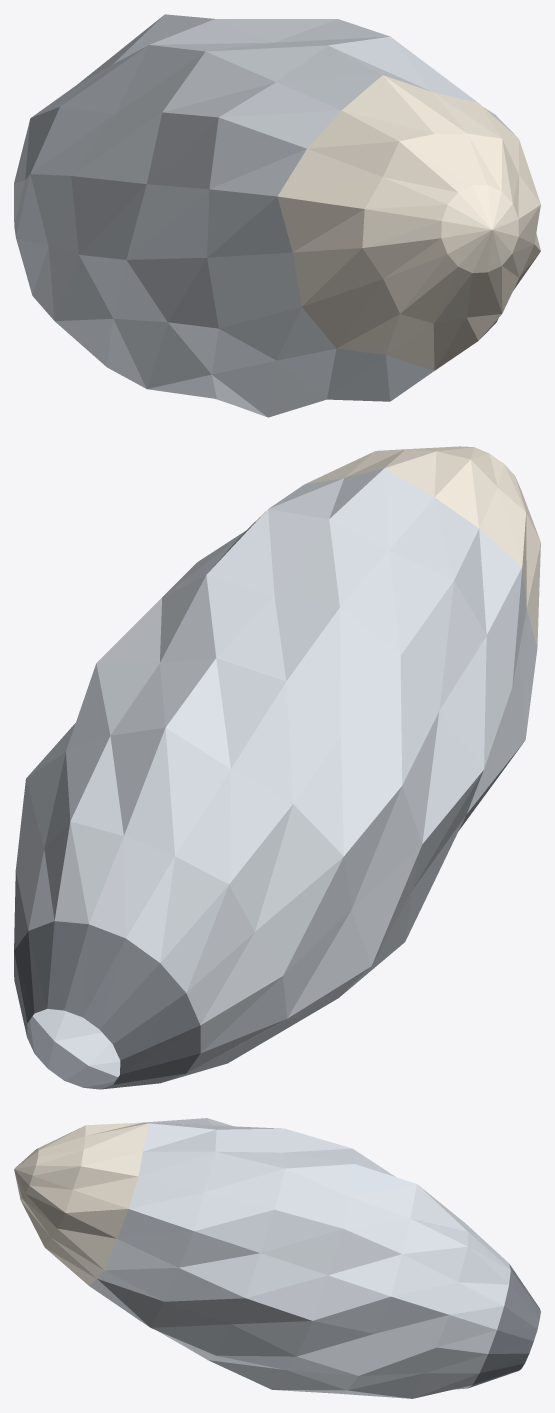
Rendered from FurTail.obj.
3 renders of one model, top to bottom at view 1: azimuth 30°, elevation 25°; view 2: azimuth 150°, elevation 25°; view 3: azimuth 270°, elevation 25°, orthographic. The views are drawn at different scales.
Size of the model in its own units: 0.458 by 0.543 by 0.96.
